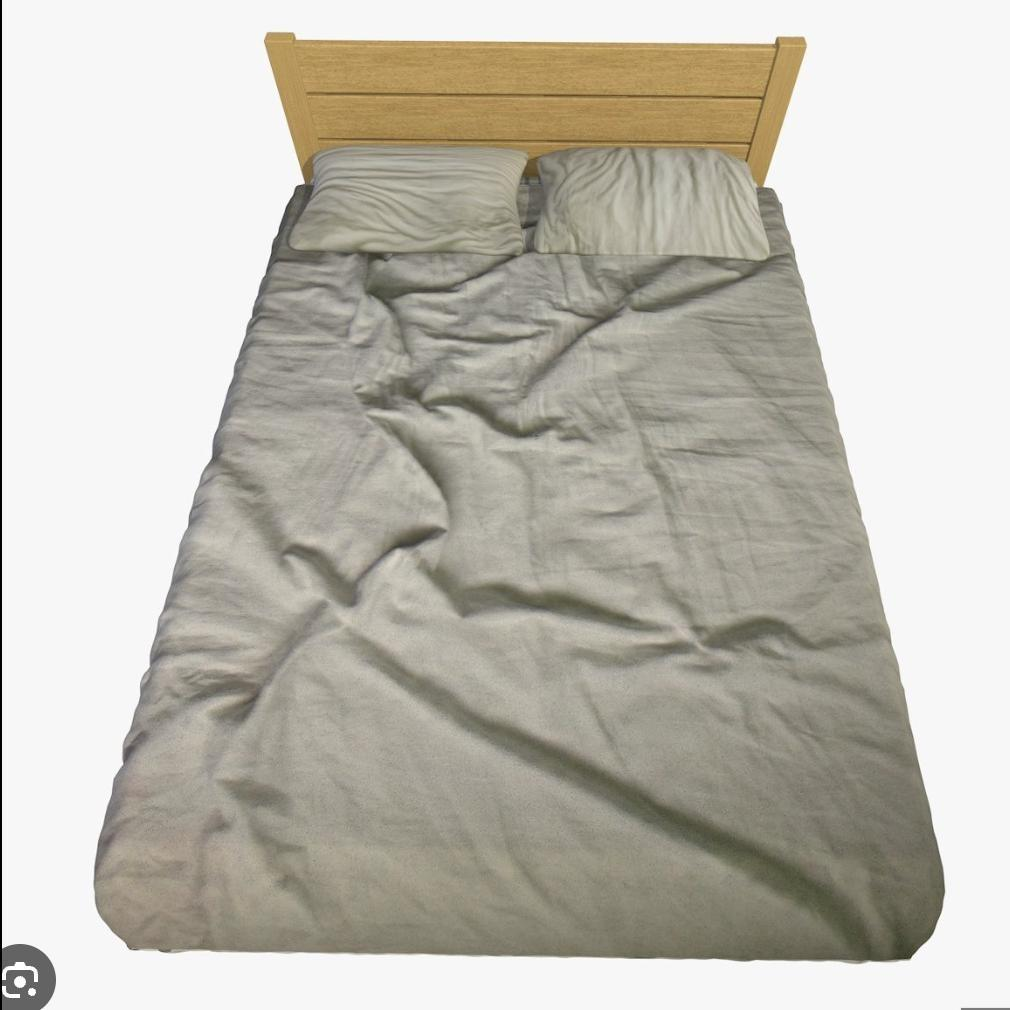Bed-Mattress: (61, 21, 982, 980)
